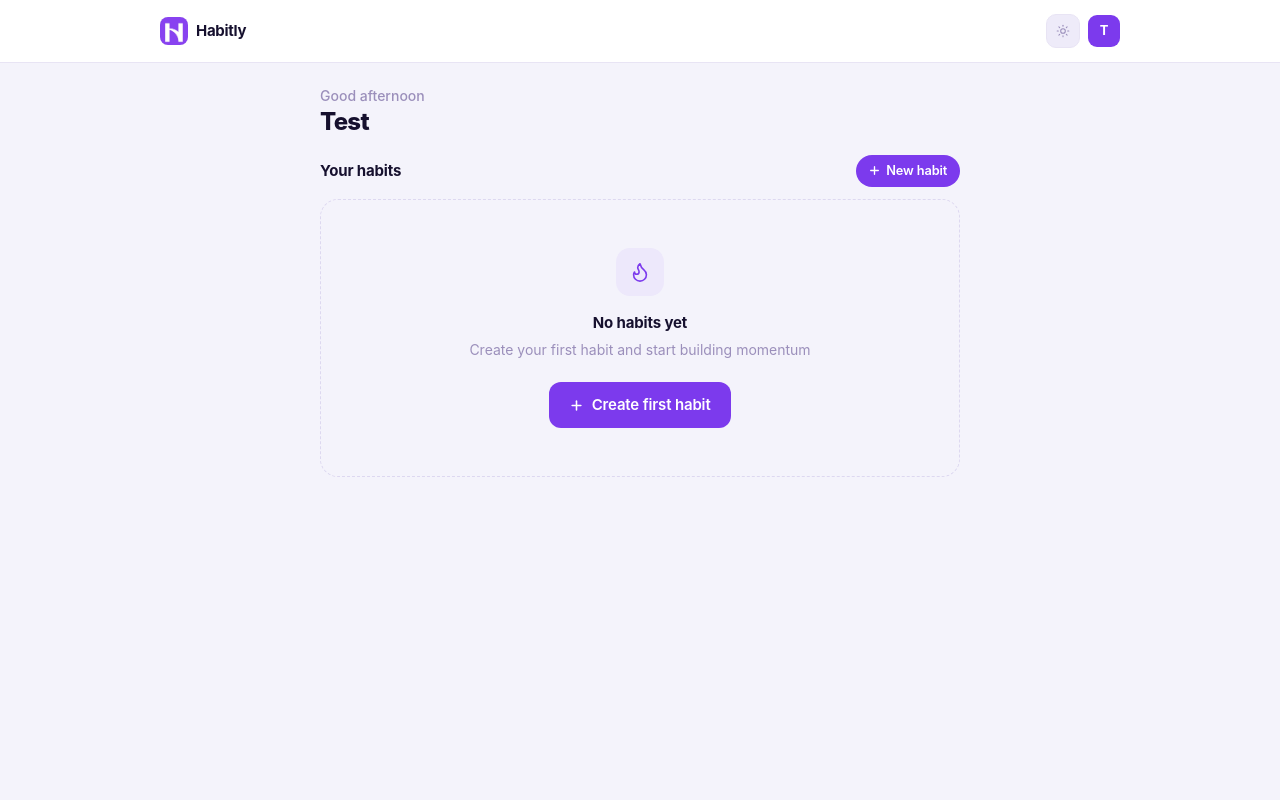
Test: habit form › shows a validation error when habit name is empty
Click the button with test id "create-habit-button" at (908, 171), box 856,155 -> 960,186
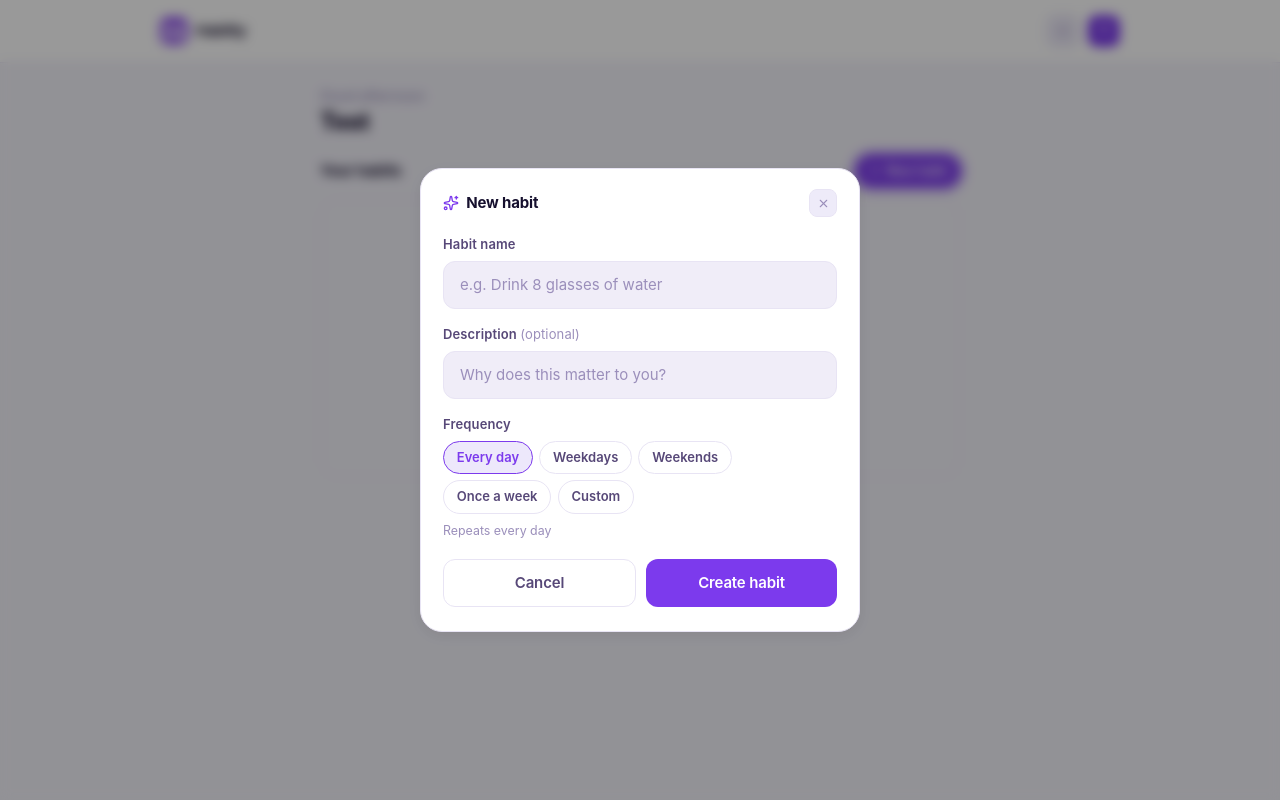
Clear the field with test id "habit-name-input" at (640, 285), box 443,260 -> 837,309
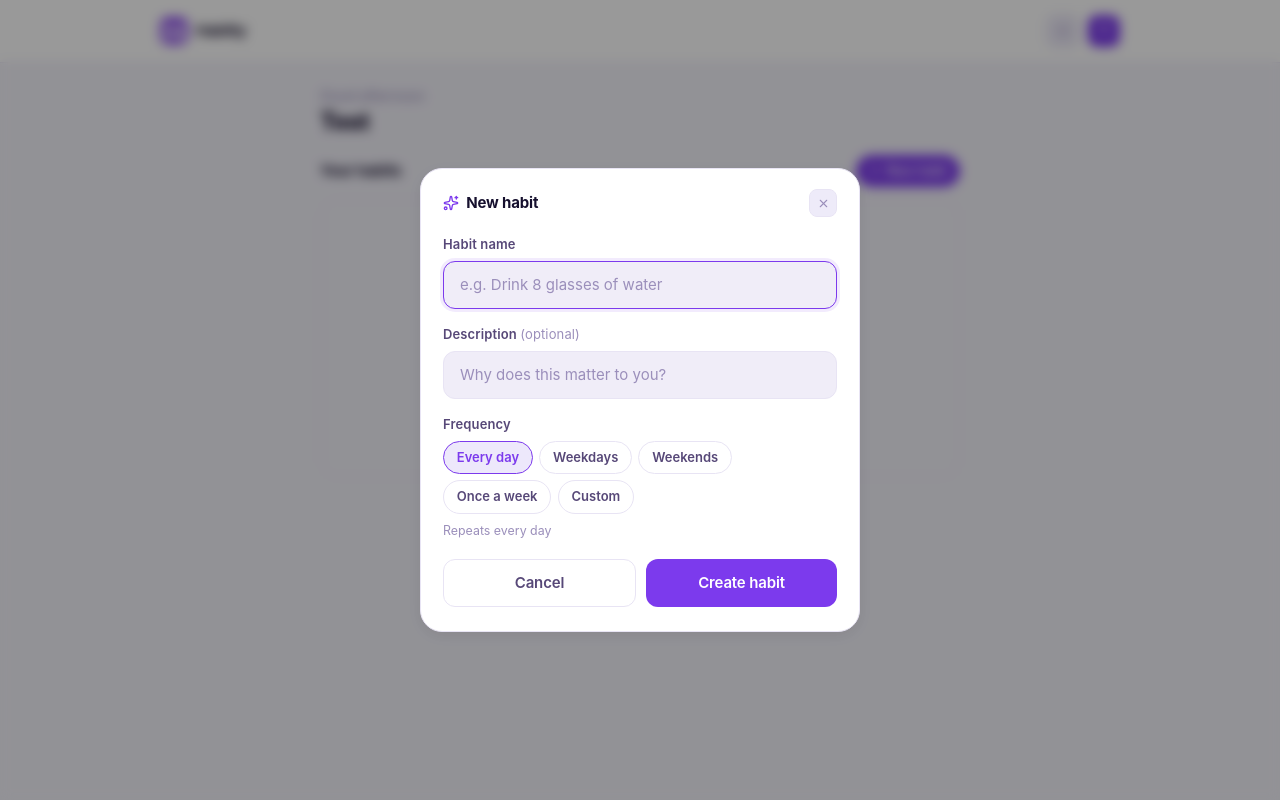
Click the button with test id "habit-save-button" at (742, 583), box 646,558 -> 837,607
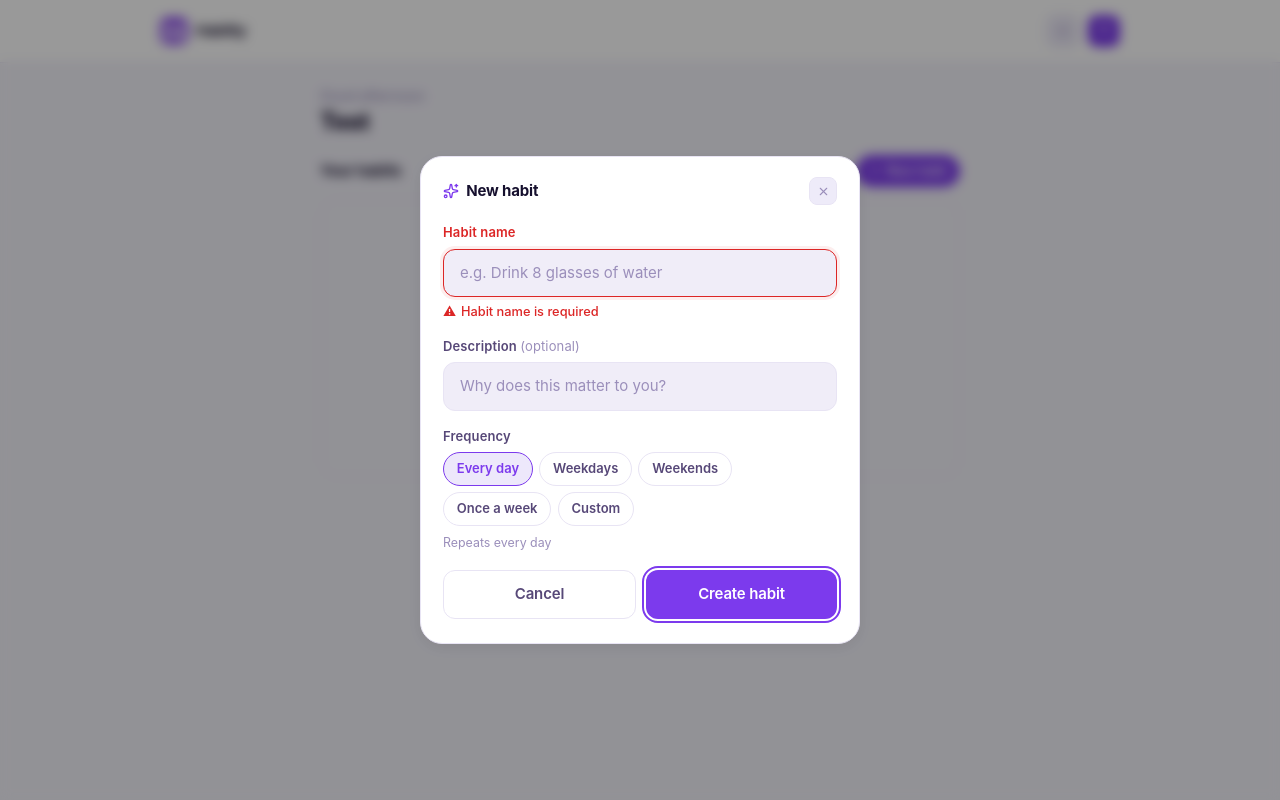
Expected: the text "Habit name is required" is shown, 461,304 -> 599,319
